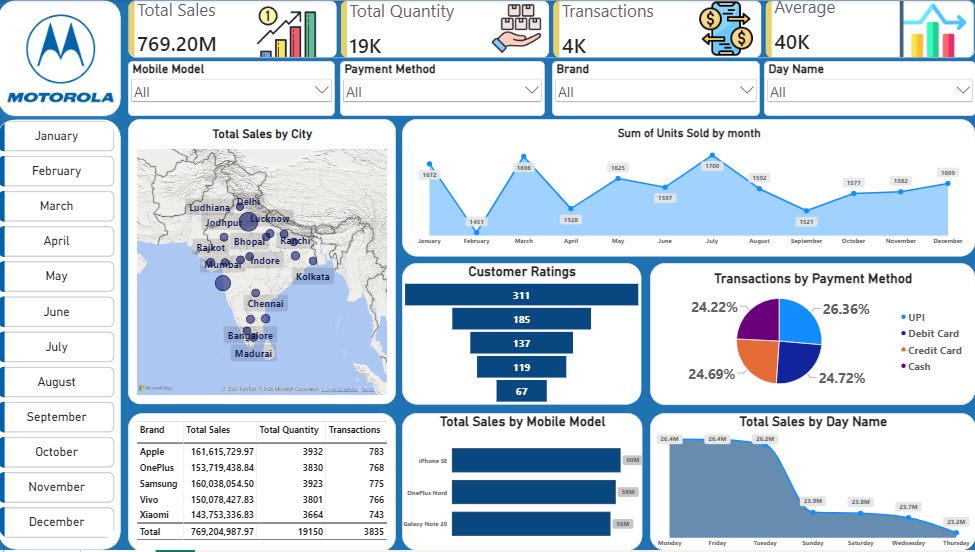

This screenshot's page, from the dashboard's own definition file:
{"tool":"powerbi","page":{"name":"Page 1","canvas":[1920,1080],"ordinal":1},"visuals":[{"type":"shape","box":[0,0,241.9,229],"z":0},{"type":"image","box":[13,0,217.5,232.5],"z":1000},{"type":"shape","box":[0,233.3,241.9,846.7],"z":2000},{"type":"advancedSlicerVisual","fields":{"Values":["SalesData.Date.Variation.Date Hierarchy.Month"]},"box":[0,235,230,825],"z":3000},{"type":"cardVisual","fields":{"Data":["SalesData.Total Sales","SalesData.Total Quantity","SalesData.Transactions","SalesData.Average"]},"box":[256,0,1664,114],"z":4000},{"type":"map","title":"Total Sales by City","fields":{"Category":["SalesData.City"],"Size":["SalesData.Total Sales"]},"box":[256,234,526,560],"z":5000},{"type":"lineChart","title":"Sum of Units Sold by month","fields":{"Category":["SalesData.Date.Variation.Date Hierarchy.Month","SalesData.Date.Variation.Date Hierarchy.Day"],"Y":["SalesData.Total Quantity"]},"box":[794,234,1126,270],"z":6000},{"type":"barChart","fields":{"Category":["SalesData.Mobile Model"],"Y":["SalesData.Total Sales"]},"box":[794,810,472,270],"z":7000},{"type":"pieChart","fields":{"Category":["SalesData.Payment Method"],"Y":["SalesData.Transactions"]},"box":[1280.9,516.2,639.4,278.6],"z":8000},{"type":"funnel","title":" Customer Ratings","fields":{"Category":["SalesData.Customer Ratings"],"Y":["CountNonNull(SalesData.Customer Ratings)"]},"box":[794,516,470,278],"z":9000},{"type":"areaChart","fields":{"Category":["SalesData.Day Name"],"Y":["SalesData.Total Sales"]},"box":[1280,810,640,270],"z":10000},{"type":"tableEx","fields":{"Values":["SalesData.Brand","SalesData.Total Sales","SalesData.Total Quantity","SalesData.Transactions"]},"box":[256,810,526,272],"z":11000},{"type":"slicer","fields":{"Values":["SalesData.Mobile Model"]},"box":[256,120,406,108],"z":12000},{"type":"slicer","fields":{"Values":["SalesData.Brand"]},"box":[1088,120,408,108],"z":13000},{"type":"slicer","fields":{"Values":["SalesData.Payment Method"]},"box":[672,120,402,108],"z":14000},{"type":"slicer","fields":{"Values":["SalesData.Day Name"]},"box":[1504,120,416,108],"z":15000}]}

Visuals, with their boxes in screenshot pixels (x1, y1, x2, y2), scaled from the page's 1920x1080 canvas onto the 975x552 screenshot:
shape: l=0, t=0, r=123, b=117
image: l=7, t=0, r=117, b=119
shape: l=0, t=119, r=123, b=551
advancedSlicerVisual - SalesData.Date.Variation.Date Hierarchy.Month: l=0, t=120, r=117, b=542
cardVisual - SalesData.Total Sales x SalesData.Total Quantity: l=130, t=0, r=974, b=58
"Total Sales by City" map: l=130, t=120, r=397, b=406
"Sum of Units Sold by month" lineChart: l=403, t=120, r=974, b=258
barChart - SalesData.Mobile Model x SalesData.Total Sales: l=403, t=414, r=643, b=551
pieChart - SalesData.Payment Method x SalesData.Transactions: l=650, t=264, r=974, b=406
" Customer Ratings" funnel: l=403, t=264, r=642, b=406
areaChart - SalesData.Day Name x SalesData.Total Sales: l=650, t=414, r=974, b=551
tableEx - SalesData.Brand x SalesData.Total Sales: l=130, t=414, r=397, b=551
slicer - SalesData.Mobile Model: l=130, t=61, r=336, b=117
slicer - SalesData.Brand: l=552, t=61, r=760, b=117
slicer - SalesData.Payment Method: l=341, t=61, r=545, b=117
slicer - SalesData.Day Name: l=764, t=61, r=974, b=117
